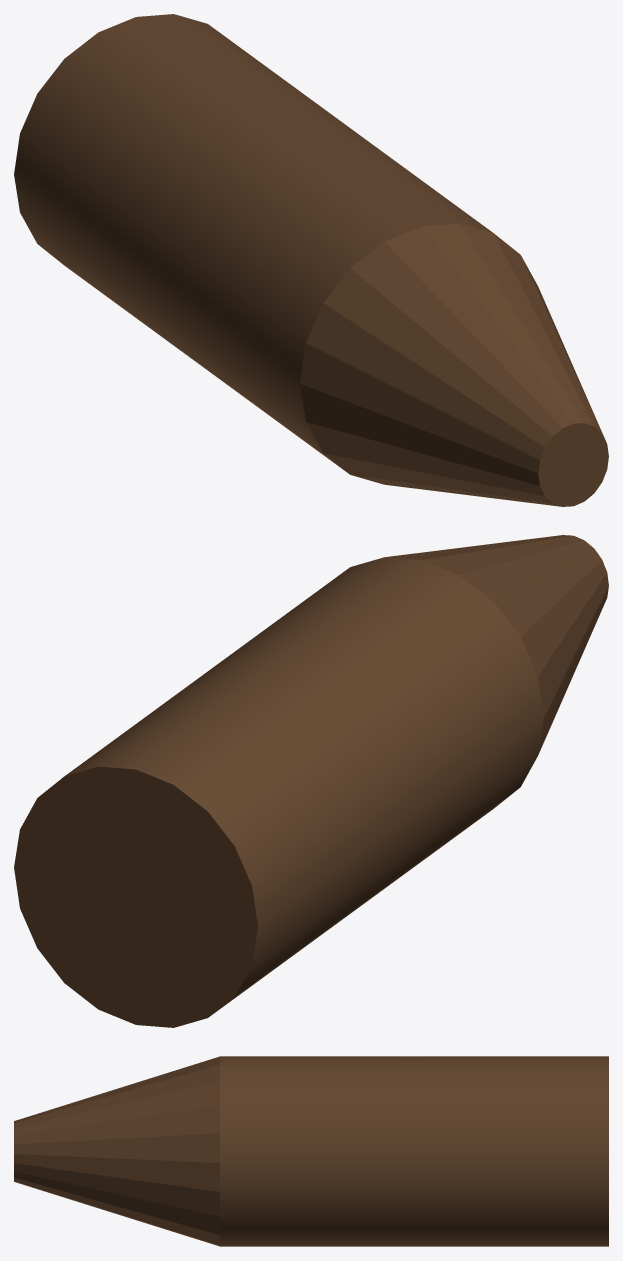
File: Bullet.fbx
The picture shows the model from 3 angles, top to bottom: view 1: azimuth 30°, elevation 25°; view 2: azimuth 150°, elevation 25°; view 3: azimuth 270°, elevation 25°; orthographic projection. The views are drawn at different scales.
Parts seen in each view (by area): view 1: pCylinder1; view 2: pCylinder1; view 3: pCylinder1.
Boxes of the visible parts, x1,y1,x2,y2 form: pCylinder1: (14, 14, 608, 506); pCylinder1: (14, 535, 608, 1027); pCylinder1: (14, 1056, 608, 1246).
Size of the model in its own units: 0.5853 by 0.5853 by 1.82.
